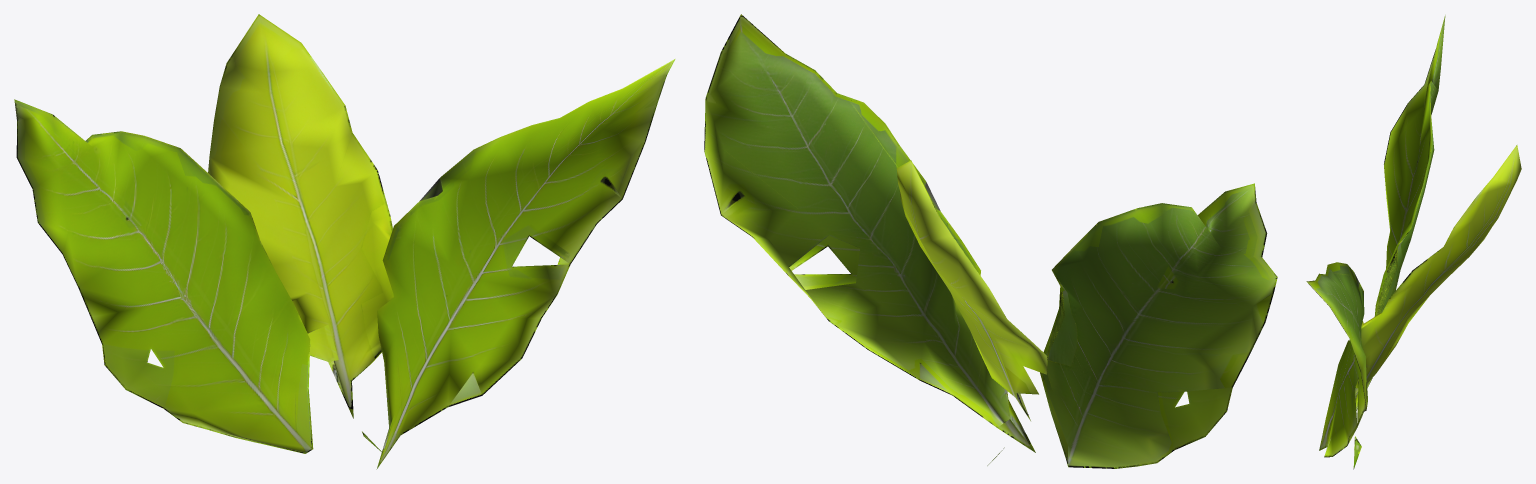
Rendered from Sambong.glb.
The picture shows the model from 3 angles, left to right: view 1: azimuth 30°, elevation 25°; view 2: azimuth 150°, elevation 25°; view 3: azimuth 270°, elevation 25°; orthographic projection. The views are drawn at different scales.
Size of the model in its own units: 1.89 by 1.2 by 0.7166.
1 material, 1 textured.
